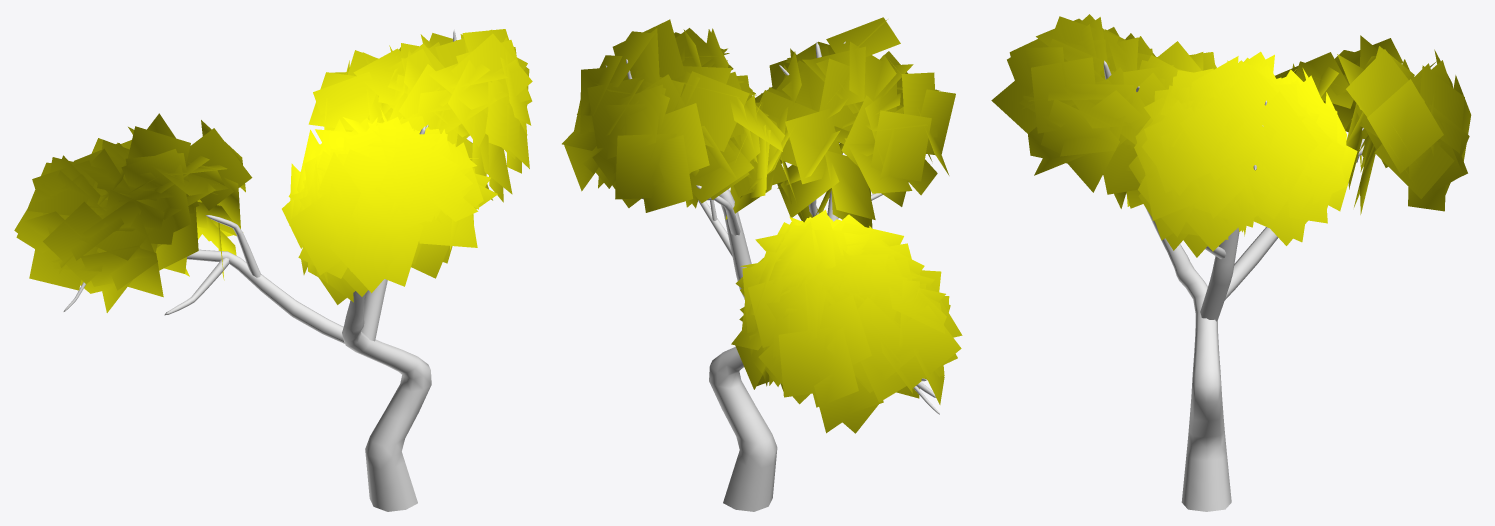
Rendered from MapleTree_2.glb.
3 views of the same model, side by side, from view 1: azimuth 30°, elevation 25°; view 2: azimuth 150°, elevation 25°; view 3: azimuth 270°, elevation 25° (orthographic). The views are drawn at different scales.
Parts seen in each view (by area): view 1: MapleTree_2; view 2: MapleTree_2; view 3: MapleTree_2.
Part boxes in pixels (x1,y1,x2,y2): MapleTree_2: [14, 29, 532, 511]; MapleTree_2: [562, 17, 962, 511]; MapleTree_2: [991, 14, 1471, 511].
Bounding box in the file's own units: 6.7 × 6.71 × 6.24.
Materials: 2 (1 with a texture image).
